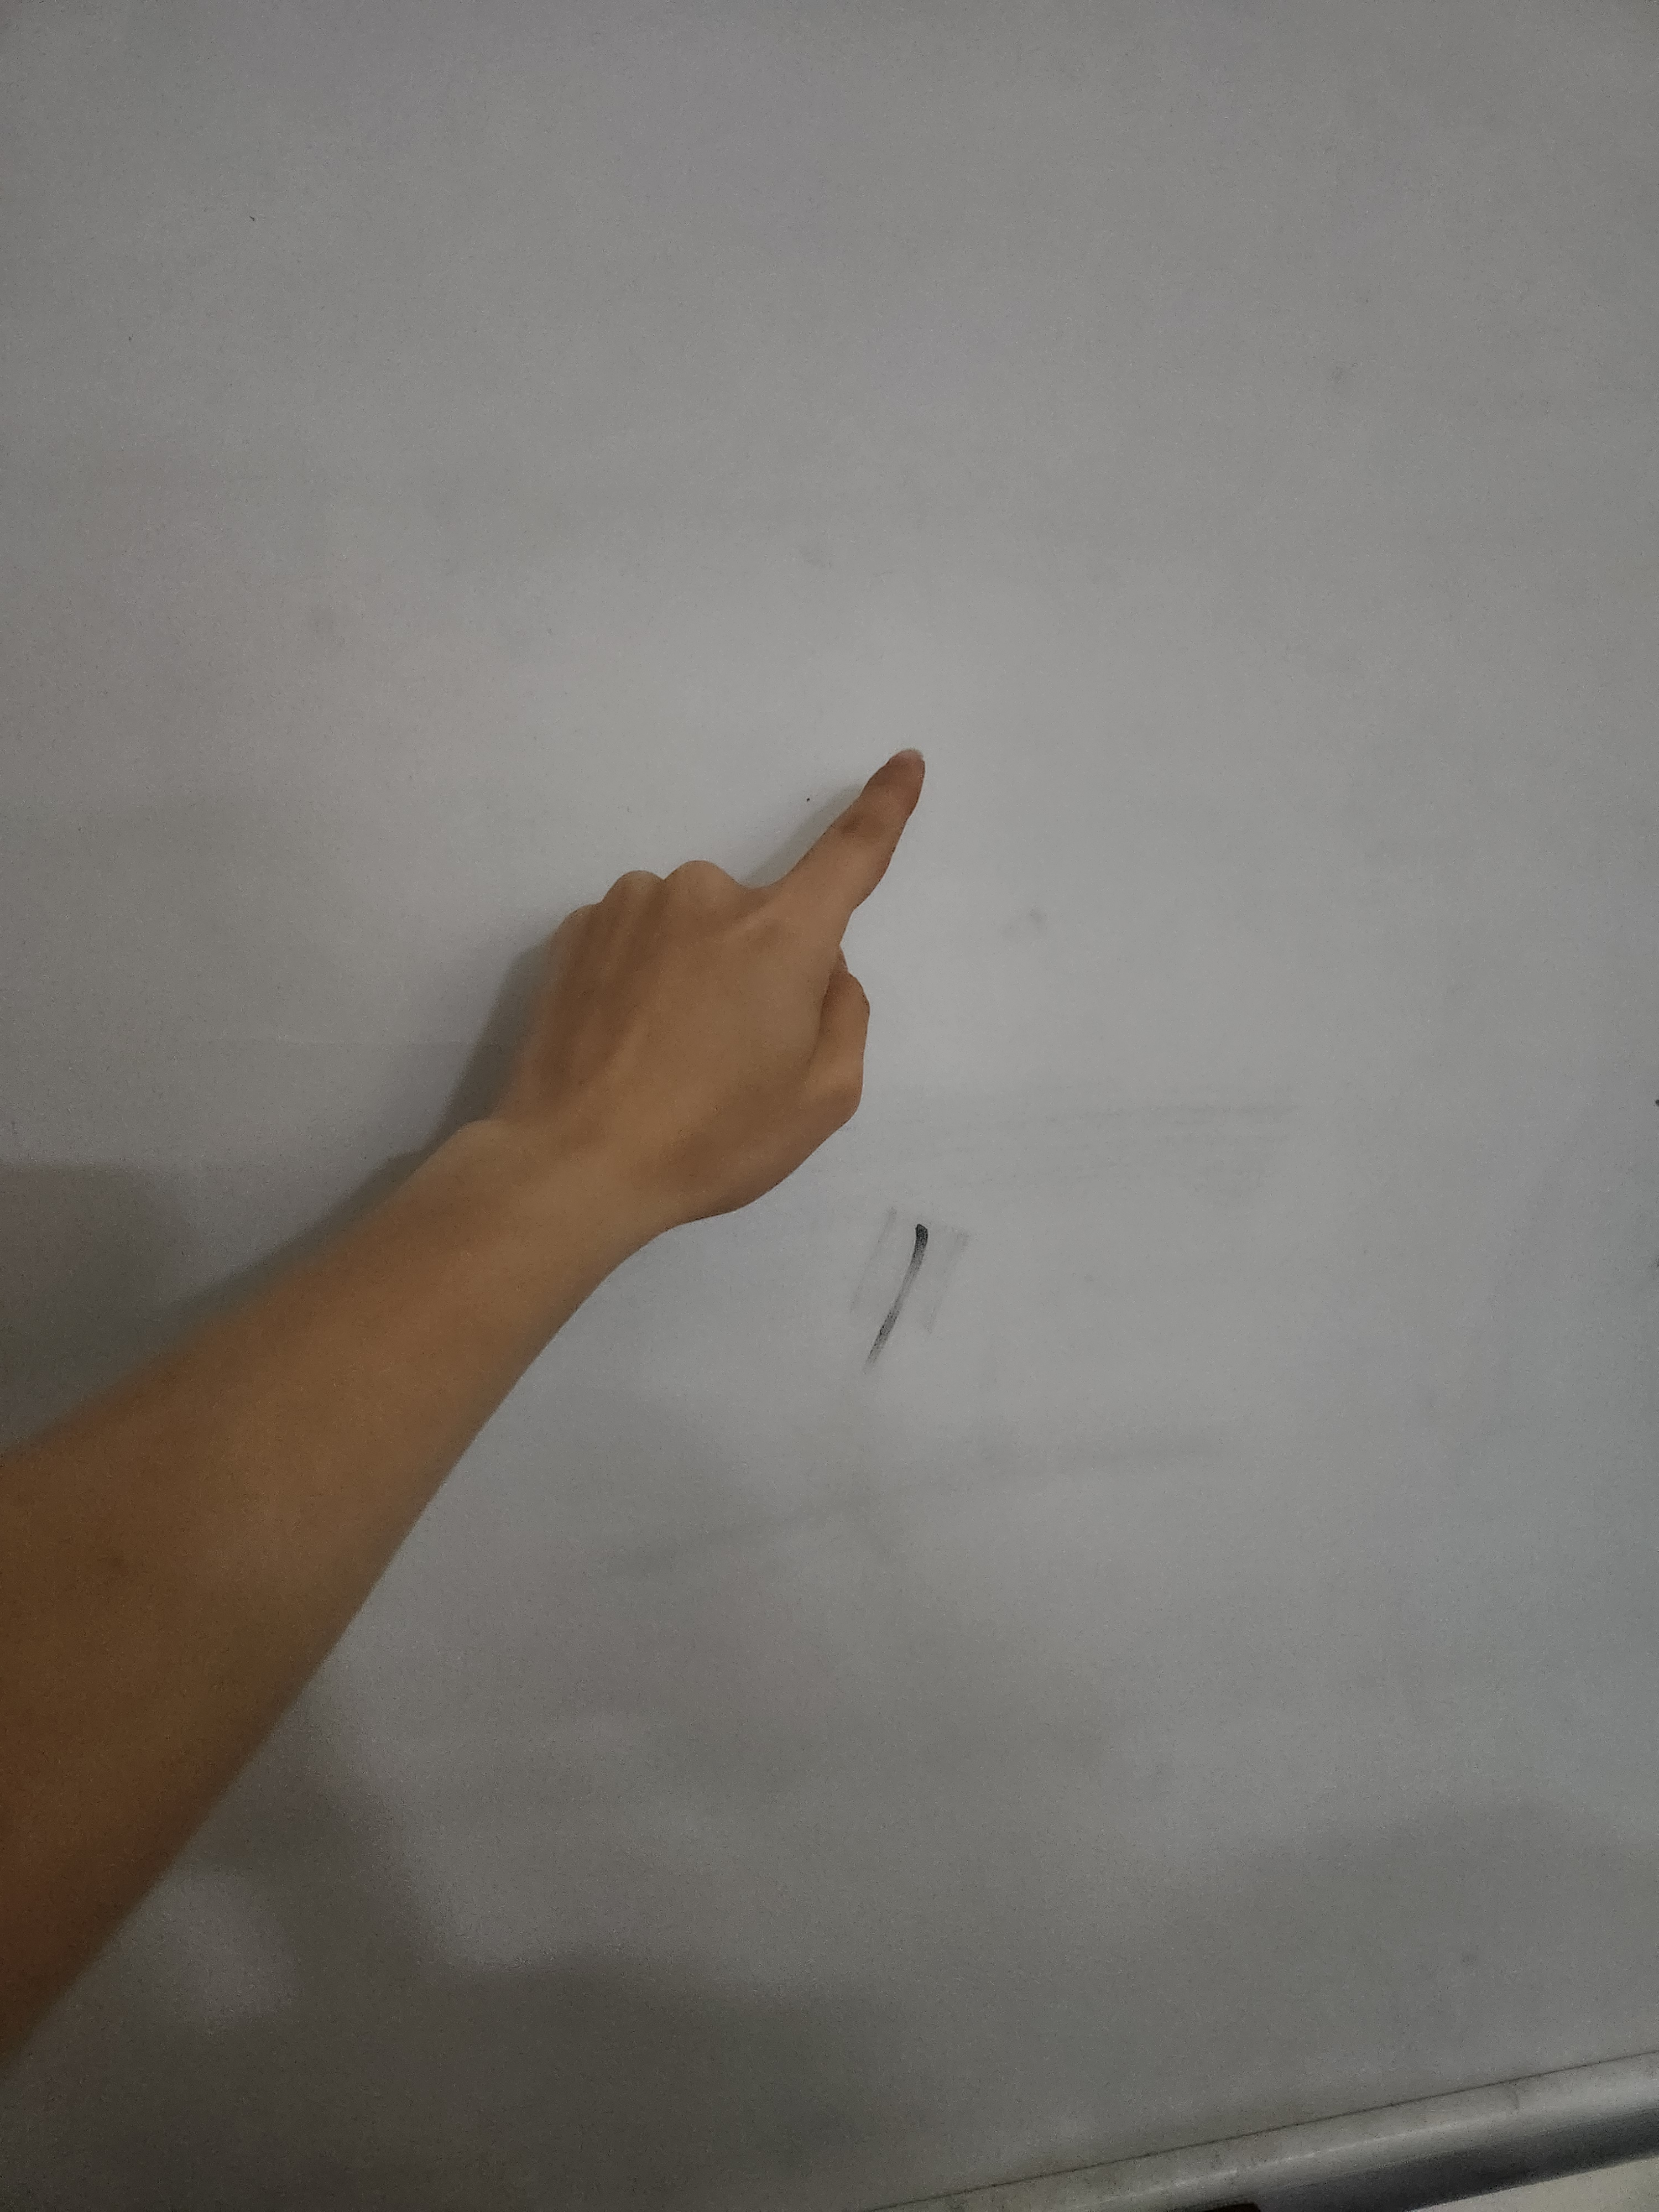pointing_gesture: (500, 740, 957, 1221)
